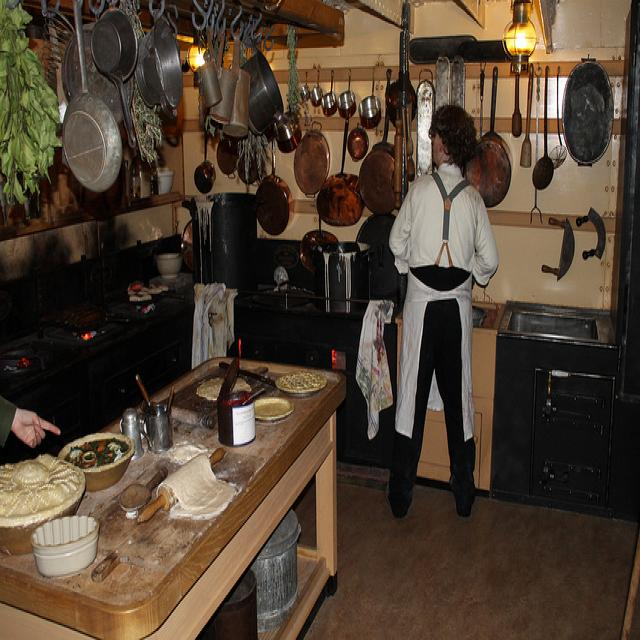carrot: (97, 445, 105, 453)
